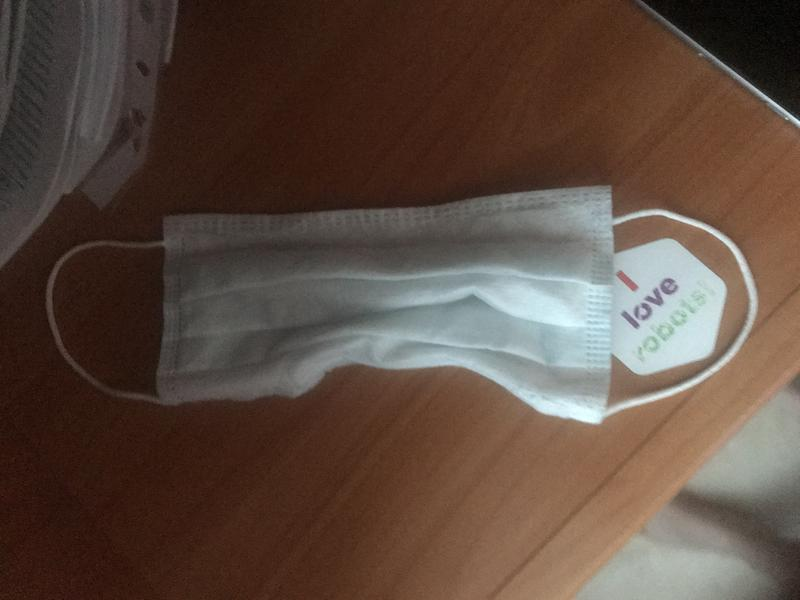medical_mask: (46, 201, 760, 426)
